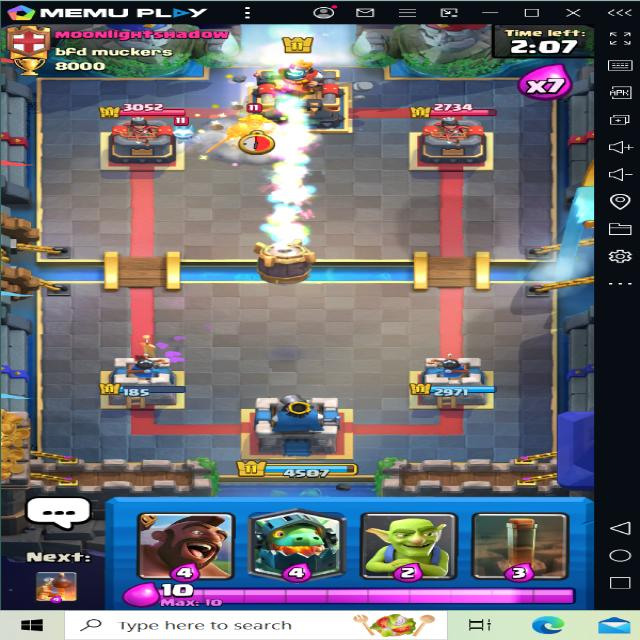golden-knight: (210, 104, 285, 159)
ice-spirit: (164, 116, 202, 142)
rocket: (246, 238, 330, 289)
